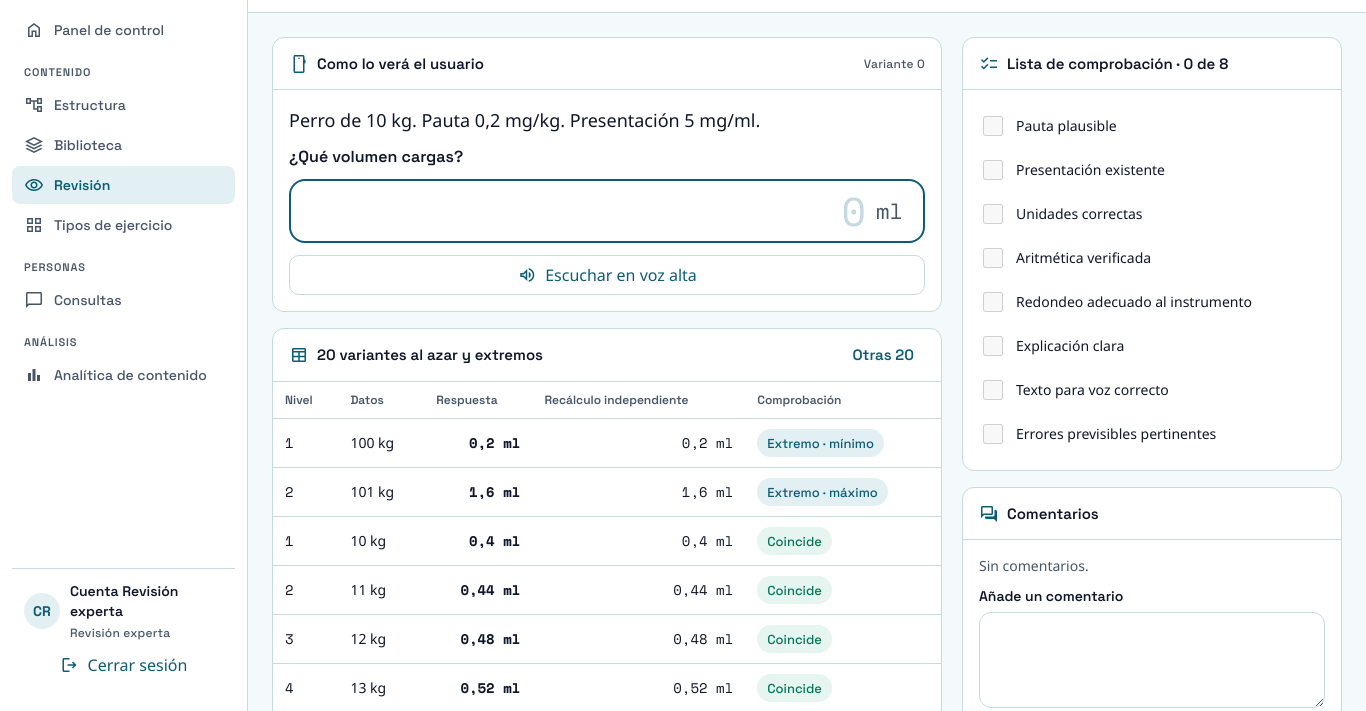
Test: B16 · ficha de revisión › Revisor sin acreditación en el sector: puede comentar y no puede validar
The width and height of the screenshot is (1366, 711).
Expected: the button "Validar" is not shown
Type "La subcutánea en gato merece una nota." into the text box labelled "Añade un comentario" at (1152, 660), box [979,612,1325,708]
(page scrolled)
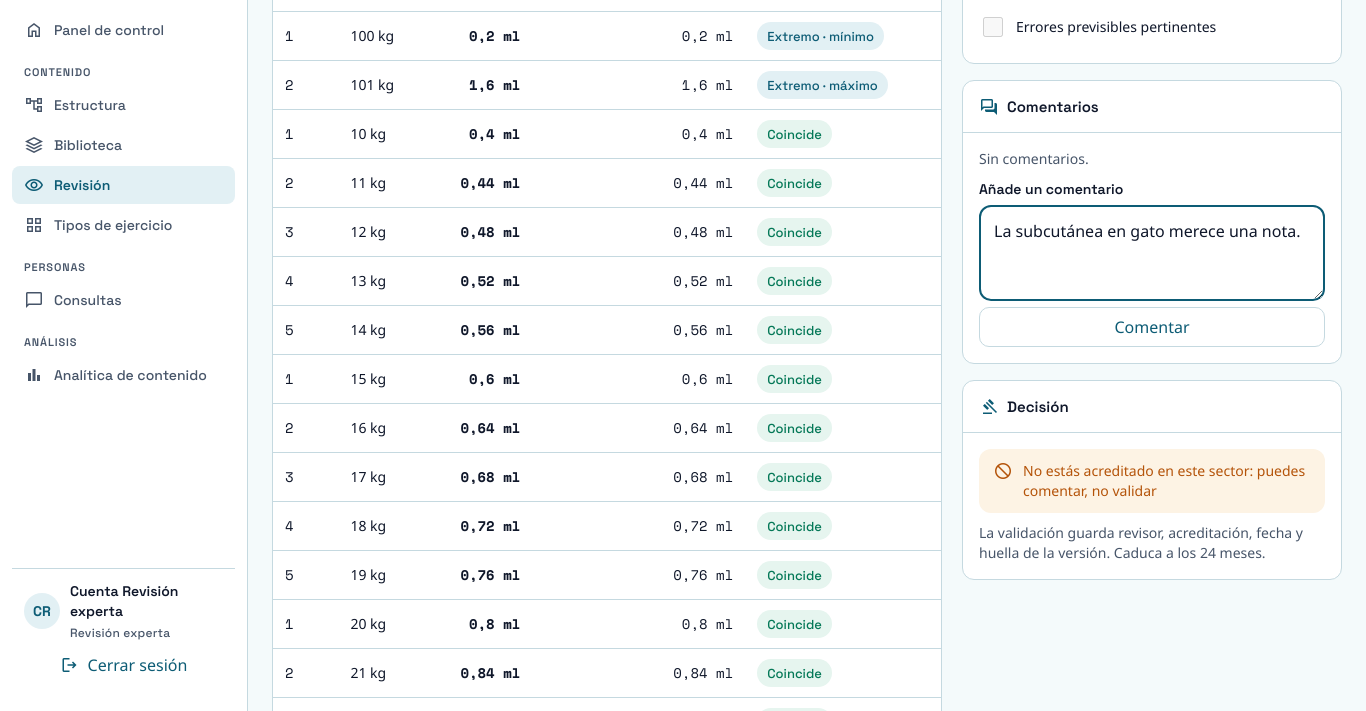
Click the button "Comentar" at (1152, 327), box [979,307,1325,347]
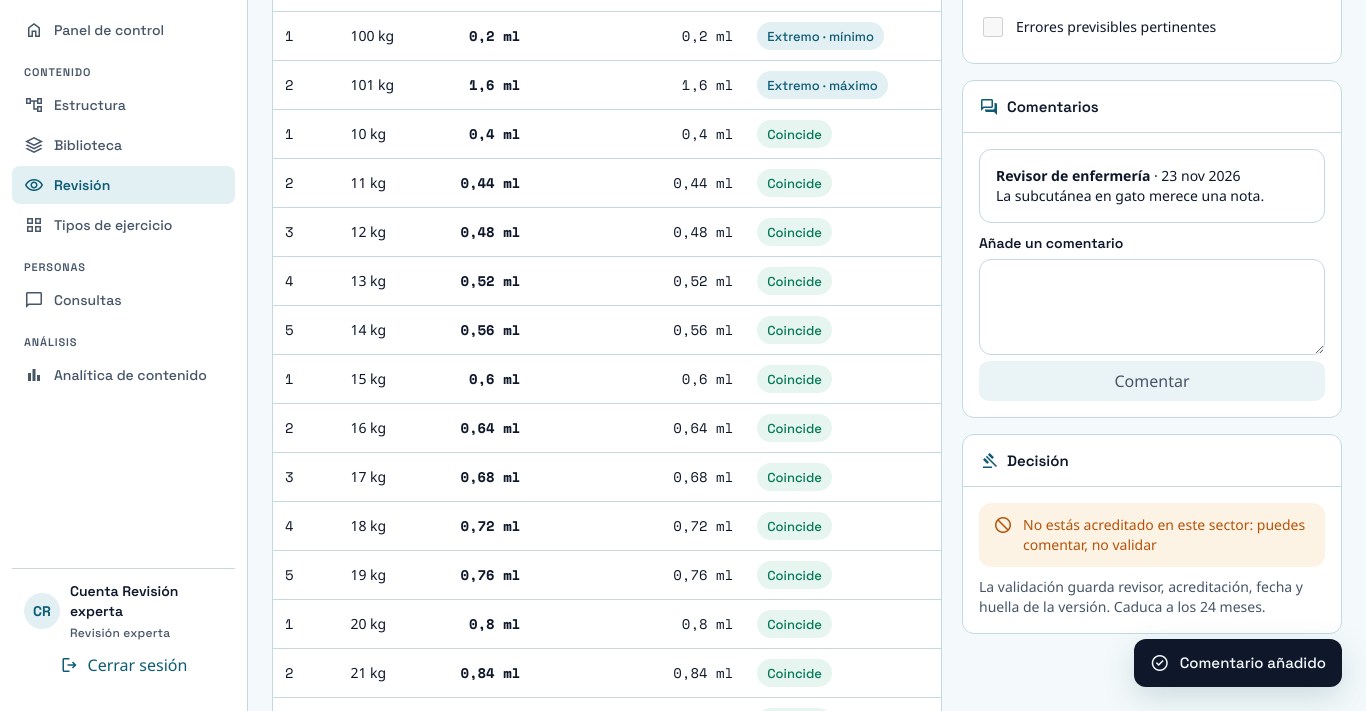
Expected: the list named "Comentarios" shows "La subcutánea en gato merece una nota.", [996,186,1264,205]
